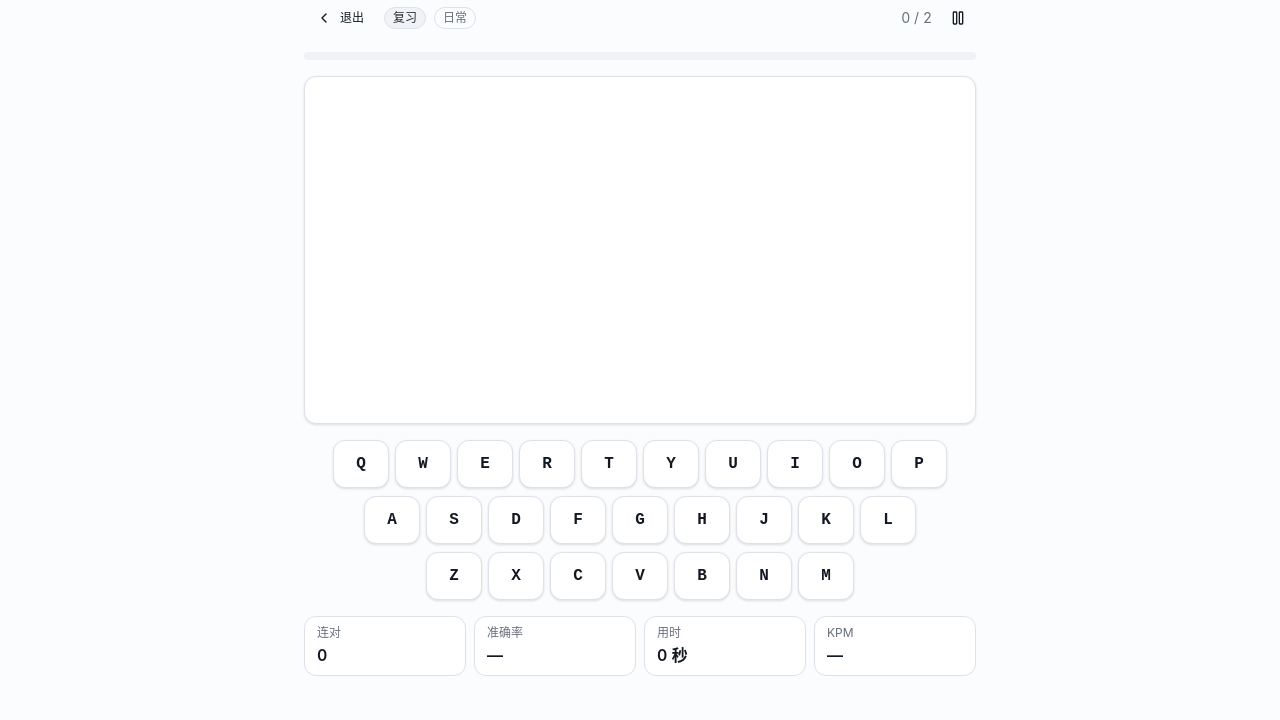
Test: PracticeView › 错误教学(adaptive):答错暂停讲解,重试清空已输入且换不来完美分
Press z in the field named "编码输入区", box [304,76,976,424]
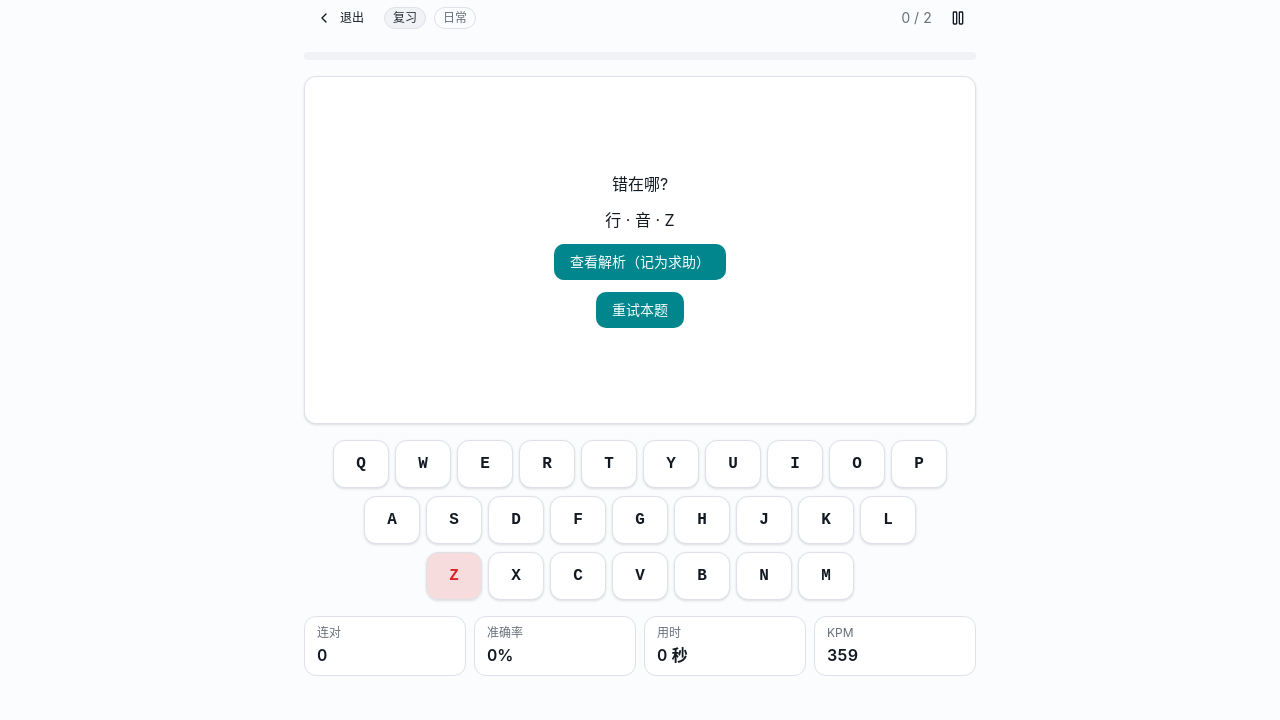
Now the dialog is shown, box [305,77,975,423]
Click the button "重试本题" at (640, 310), box [596,292,684,328]
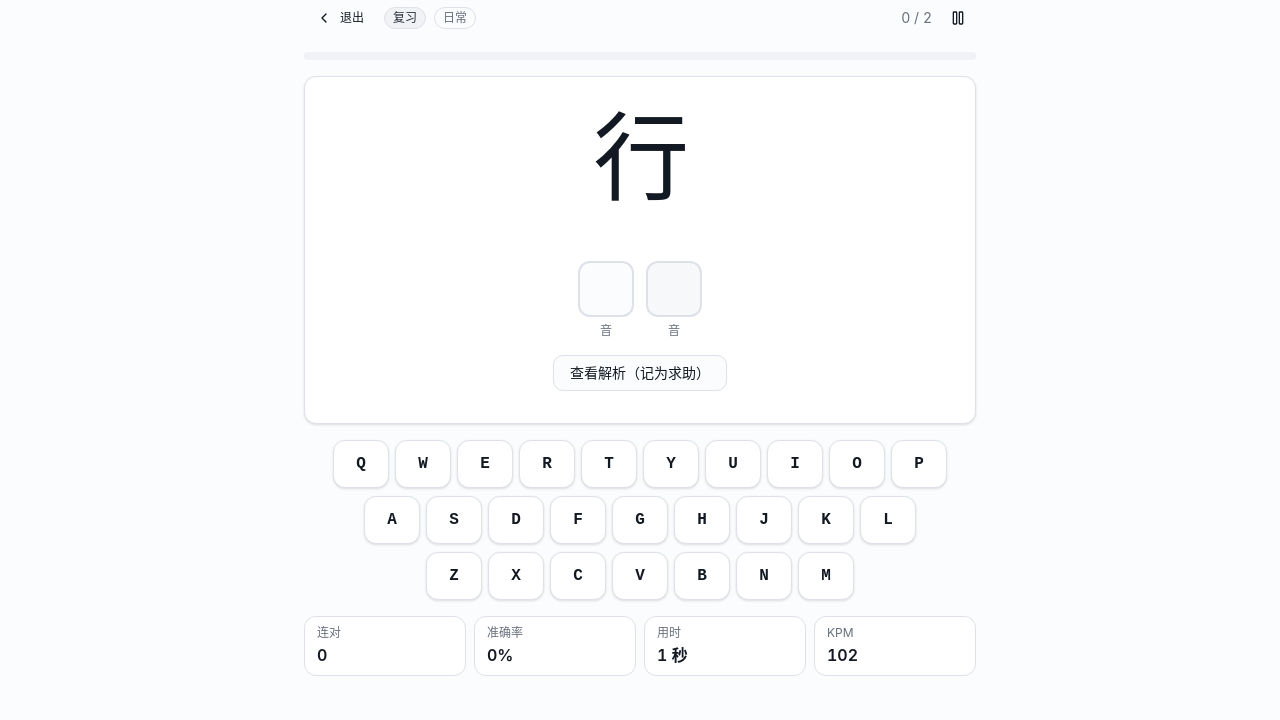
Now the element named "编码 2 键,已输入 0 键" is shown, box [578,261,702,339]
Now the dialog is gone
